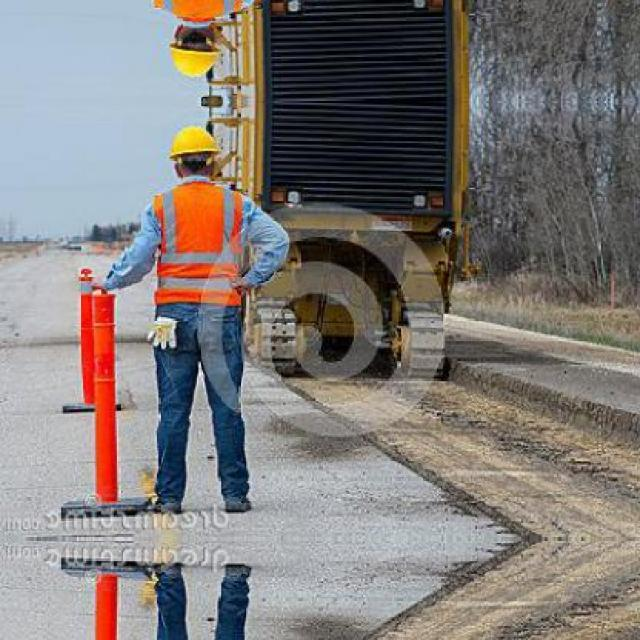Reflective-Jacket: (135, 178, 260, 317)
Safety-Helmet: (160, 117, 226, 168)
